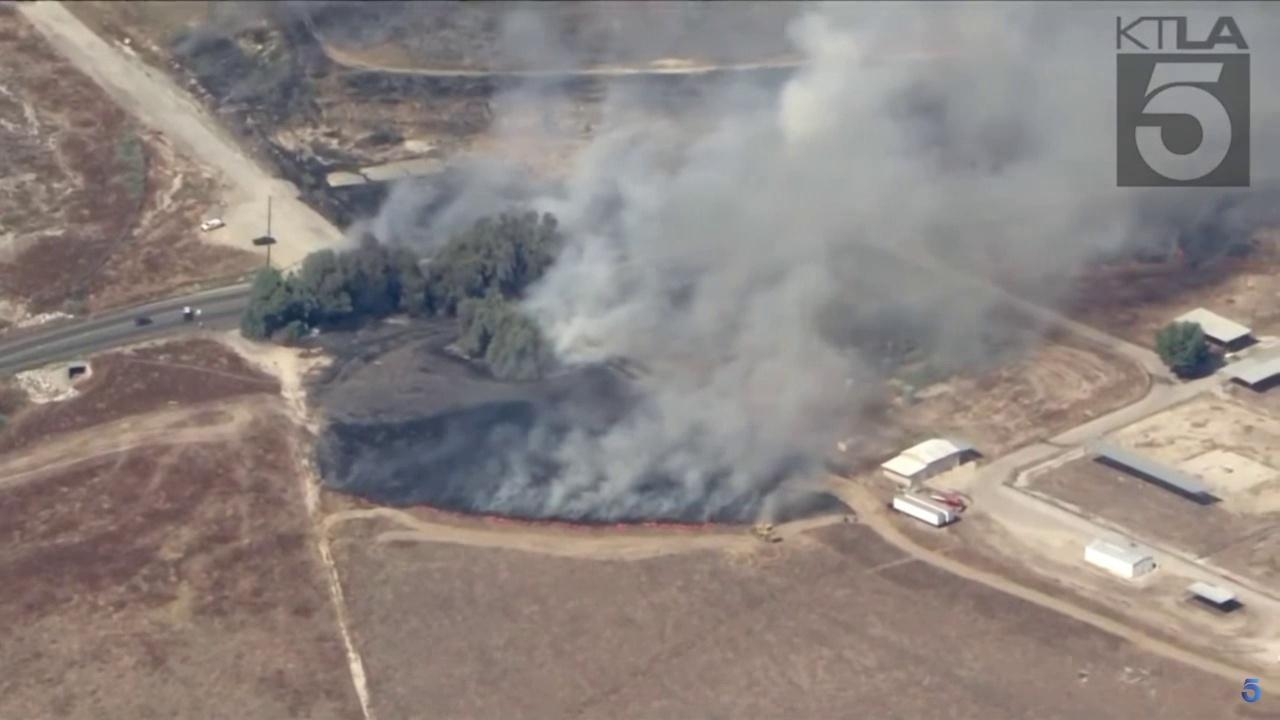fire: (642, 521, 714, 531), (530, 519, 595, 530), (480, 514, 513, 528), (596, 523, 630, 530), (414, 504, 439, 513)
smoke: (166, 3, 1280, 510)
